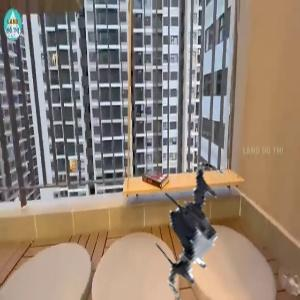drone: (126, 162, 256, 292)
